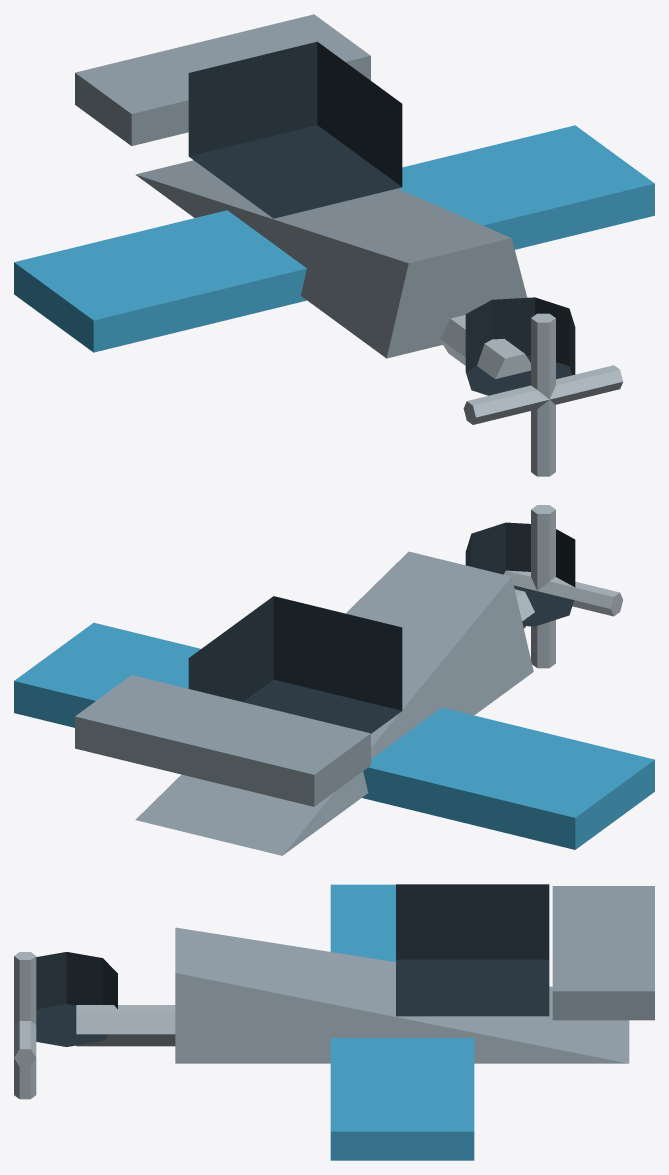
File: air.obj
3 views of the same model, one above another, from view 1: azimuth 30°, elevation 25°; view 2: azimuth 150°, elevation 25°; view 3: azimuth 270°, elevation 25° (orthographic). The views are drawn at different scales.
Parts seen in each view (by area): view 1: air; view 2: air; view 3: air.
Part boxes in pixels (left/top/right/bottom): air: left=14, top=14, right=654, bottom=476; air: left=14, top=505, right=654, bottom=855; air: left=14, top=884, right=654, bottom=1160.
Bounding box in the file's own units: 1.83 × 0.63 × 2.01.
